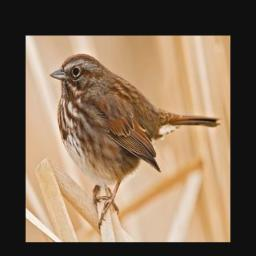Sparrow: (49, 52, 221, 229)
